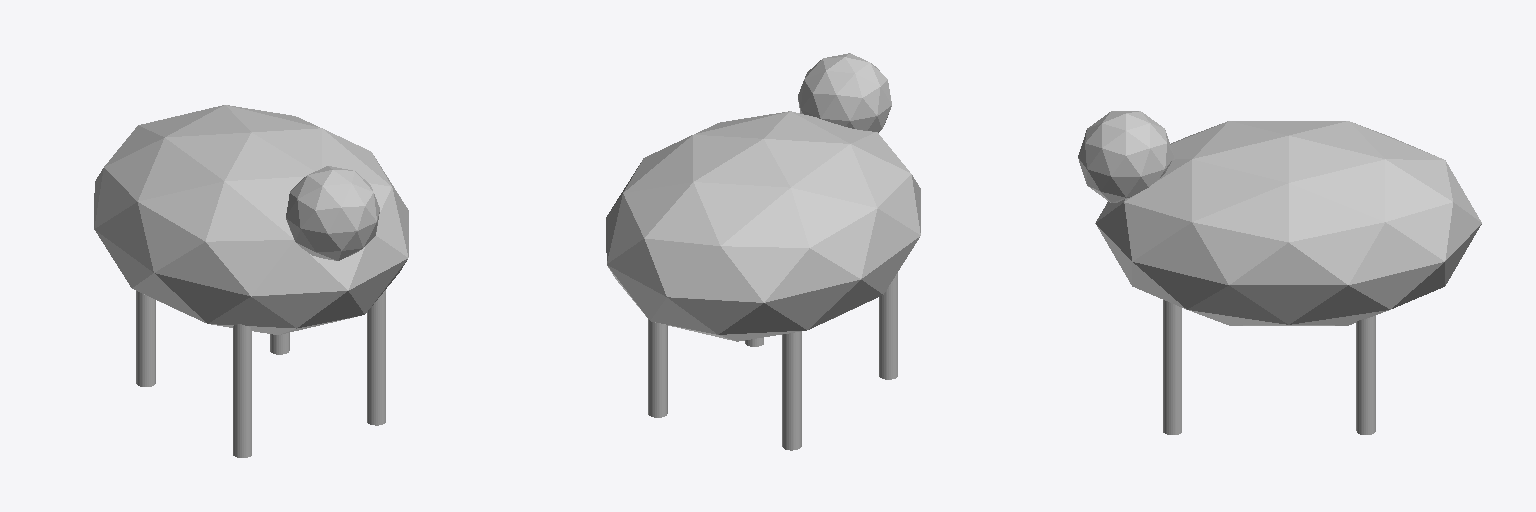
The model's file is sheep.obj.
3 views of the same model, side by side, from view 1: azimuth 30°, elevation 25°; view 2: azimuth 150°, elevation 25°; view 3: azimuth 270°, elevation 25° (orthographic).
Parts seen in each view (by area): view 1: Icosphere.001; view 2: Icosphere.001; view 3: Icosphere.001.
Part boxes in pixels (x1,y1,x2,y2): Icosphere.001: (94, 105, 408, 457); Icosphere.001: (606, 53, 920, 450); Icosphere.001: (1078, 111, 1481, 434).
Bounding box in the file's own units: 1.52 × 1.63 × 2.09.